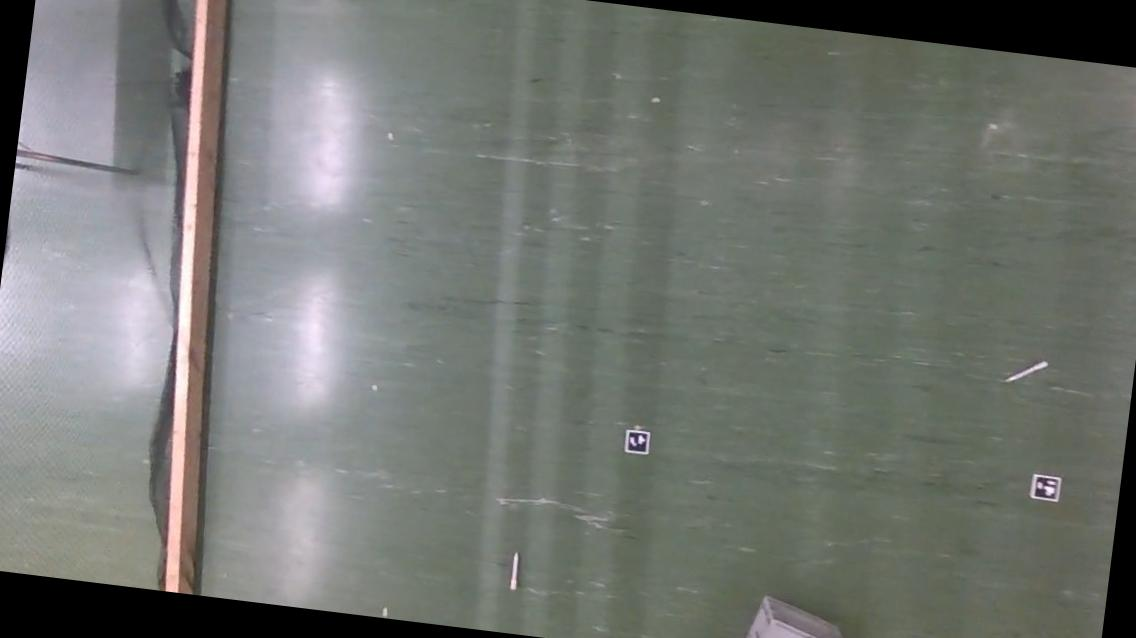probes: (1007, 355, 1046, 385), (508, 550, 522, 590)
rako: (735, 590, 857, 638)
